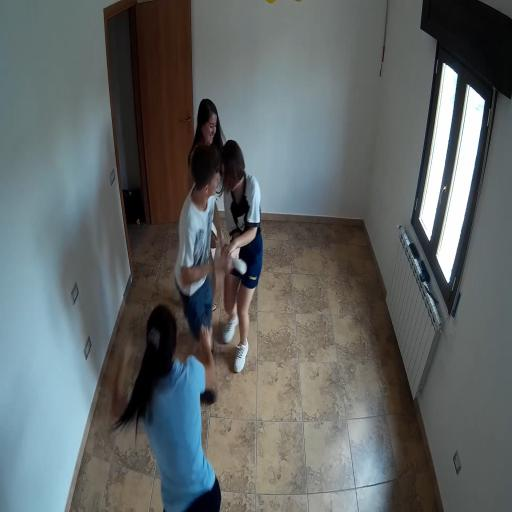violencia: (164, 93, 274, 388)
